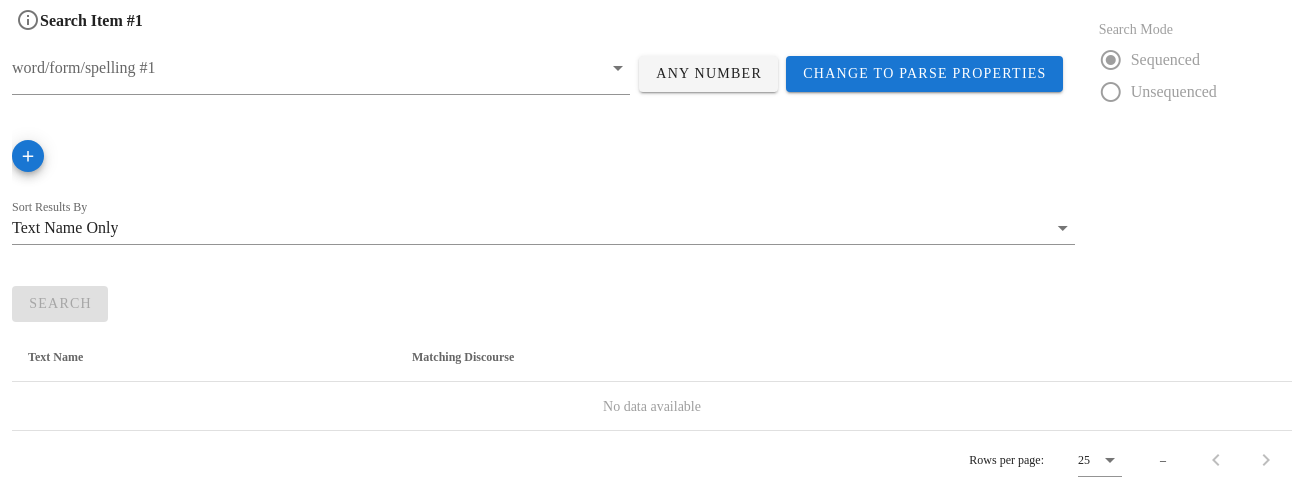
Test: WordsInTextSearch › changes to parse properties and back
Expected: the element with class "test-combobox-1" is shown, [12, 0, 1063, 124]
What coordinates should you click on to do the following:
click the button with class "test-combobox-btn-word-forms"
I would click on:
 (924, 74)
Its box is [786, 56, 1063, 92].
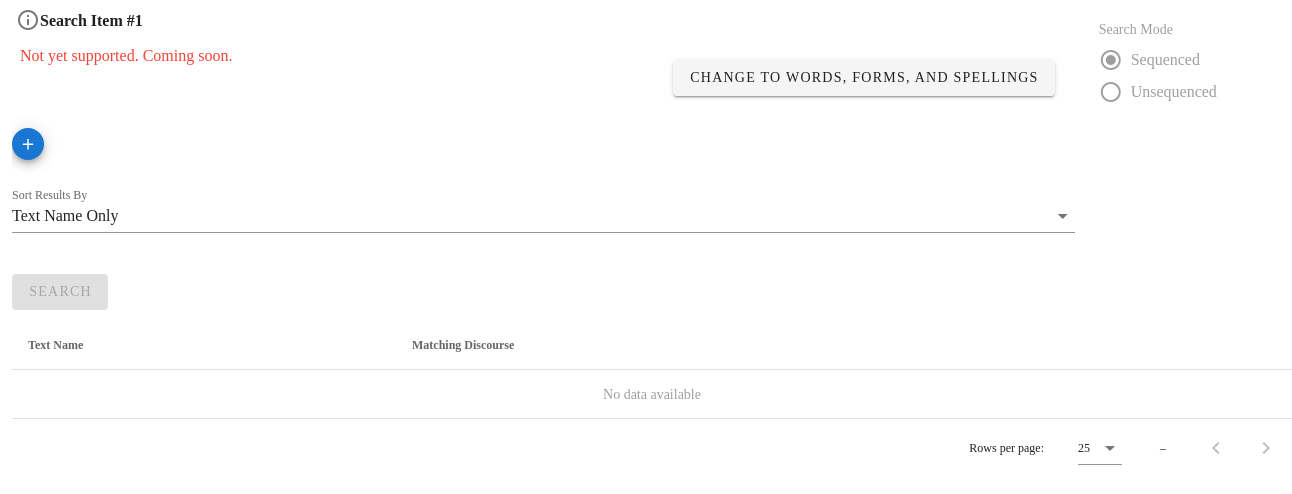
Now the element with class "test-combobox-1" is gone
Now the element with class "test-parse-tree-1" is shown, box [12, 0, 1063, 112]
What coordinates should you click on to do the following:
click the button with class "test-combobox-btn-parse-props"
I would click on:
 (864, 78)
Its box is [673, 60, 1055, 96].
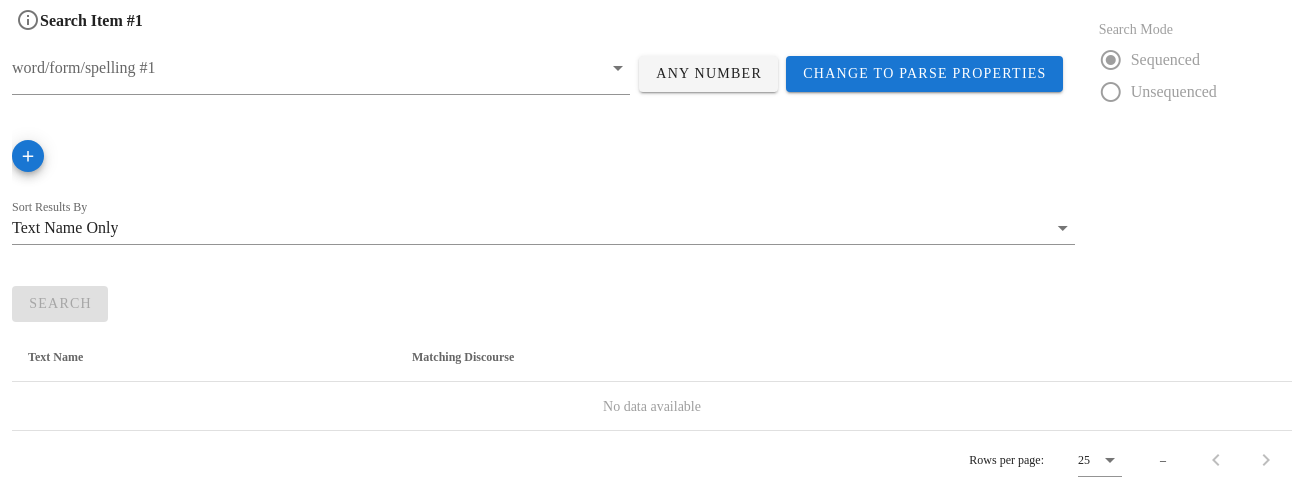
Now the element with class "test-combobox-1" is shown, box [12, 0, 1063, 124]
Now the element with class "test-parse-tree-1" is gone
